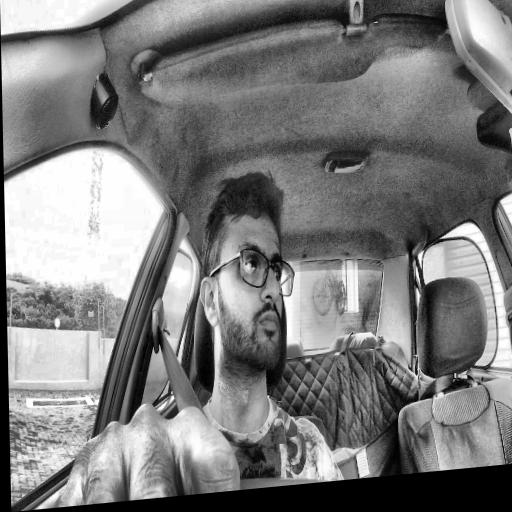awake: (198, 169, 297, 384)
